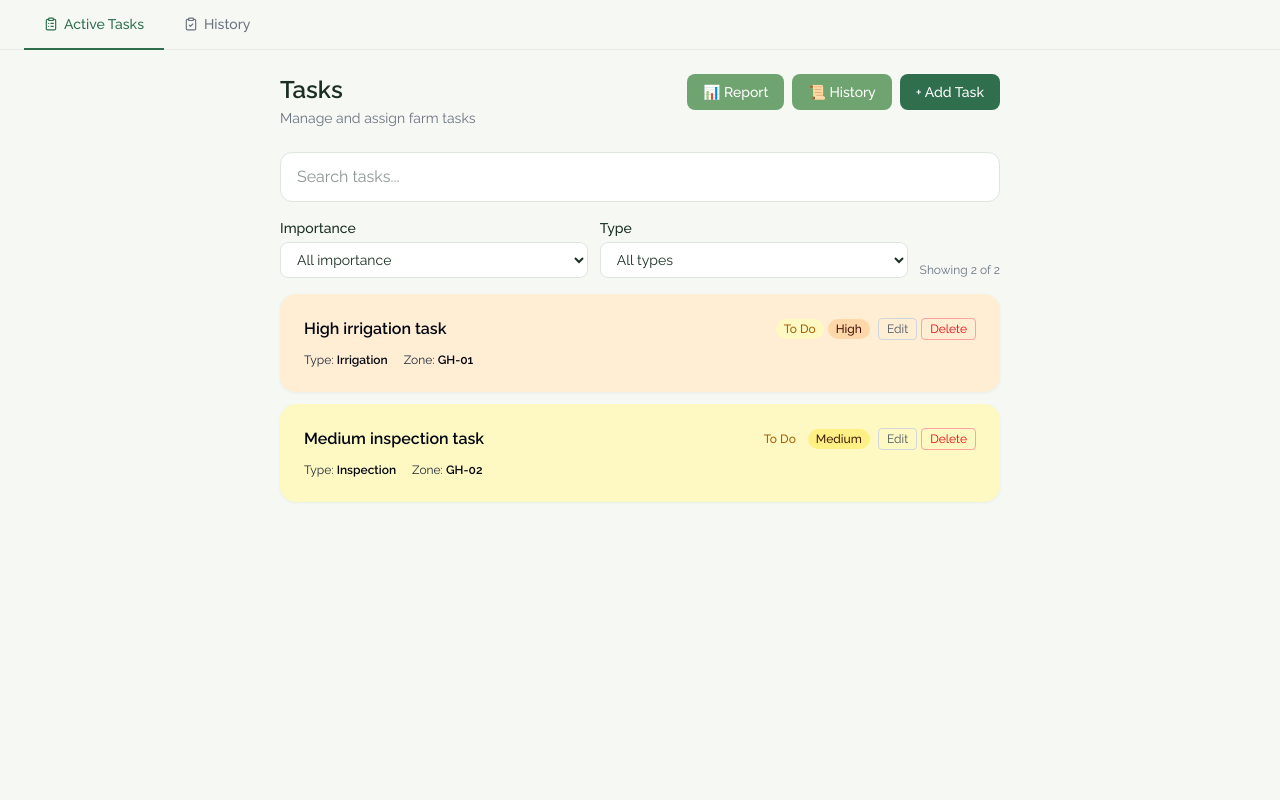
Test: manager task delete (US42) › soft-deletes the task and removes it from the list on confirm
This screenshot has width=1280, height=800.
Expected: the heading "High irrigation task" is shown, [304,318,446,340]
Click the button "Delete" in the row of "High irrigation task": (949, 329) [921,318,976,340]
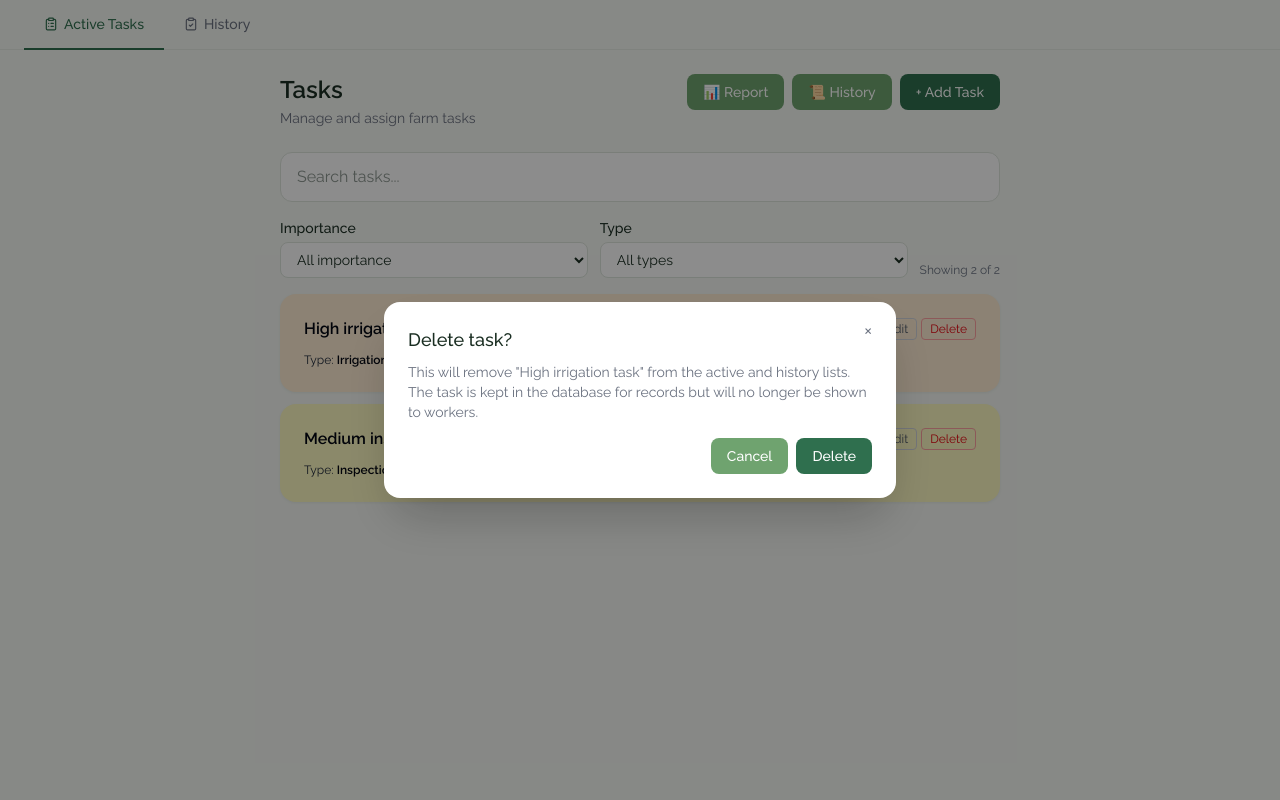
Expected: the heading "Delete task?" is shown, [408,329,512,350]
Click the button "Delete": (834, 456) [796,438,872,474]
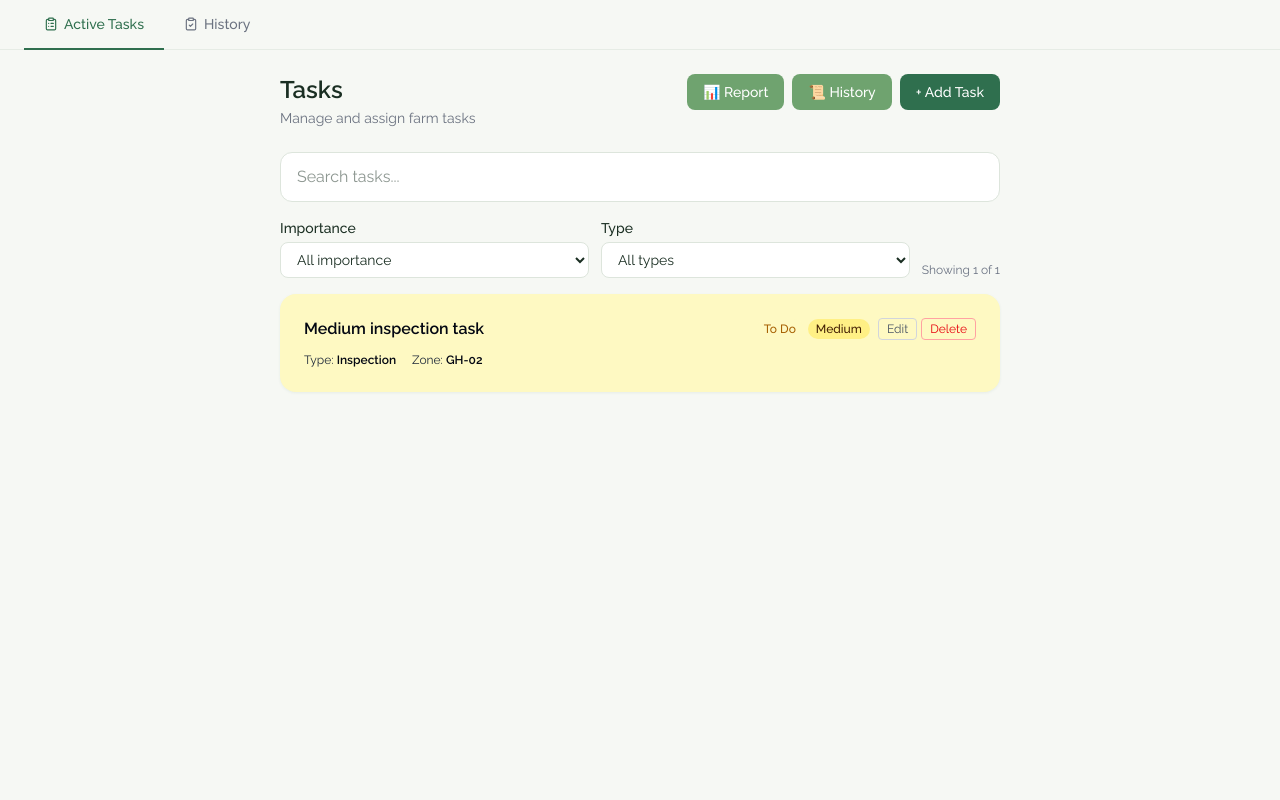
Expected: the heading "Medium inspection task" is shown, [304,318,484,340]
Expected: the heading "High irrigation task" is gone
